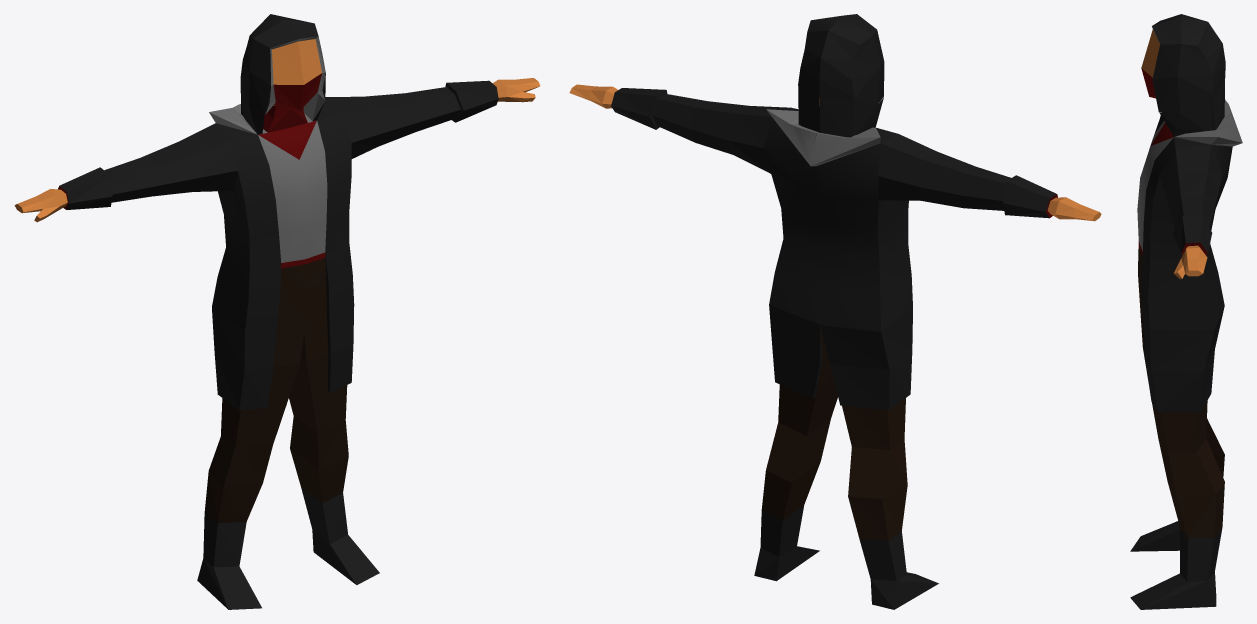
Rendered from ladron.fbx.
The picture shows the model from 3 angles, left to right: view 1: azimuth 30°, elevation 25°; view 2: azimuth 150°, elevation 25°; view 3: azimuth 270°, elevation 25°; orthographic projection.
Visible parts, largest first — view 1: Box002; view 2: Box002; view 3: Box002.
Part boxes in pixels (box(x1,y1,x2,y2)): Box002: box(14, 14, 540, 609); Box002: box(569, 14, 1101, 609); Box002: box(1130, 14, 1242, 609).
Size of the model in its own units: 1.64 by 1.7 by 0.3117.
